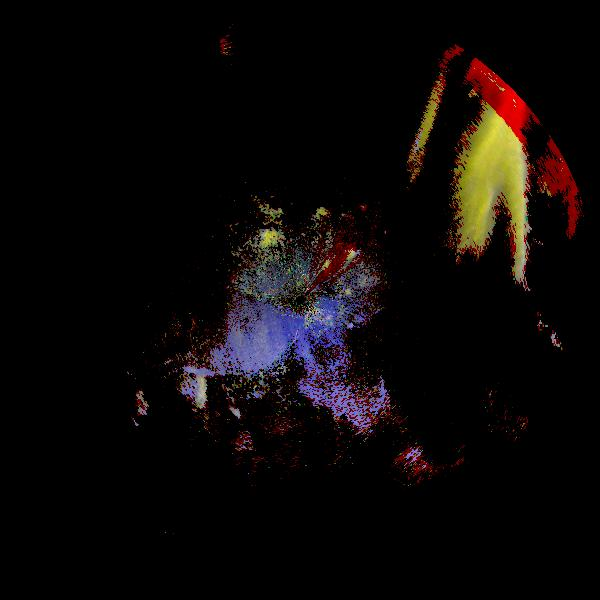roost: (76, 362, 160, 446)
